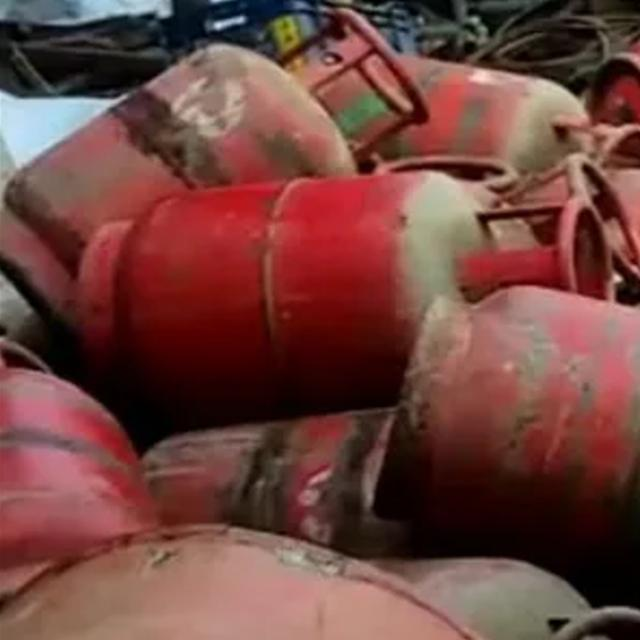cylinder: (2, 7, 431, 333), (76, 170, 615, 412)
